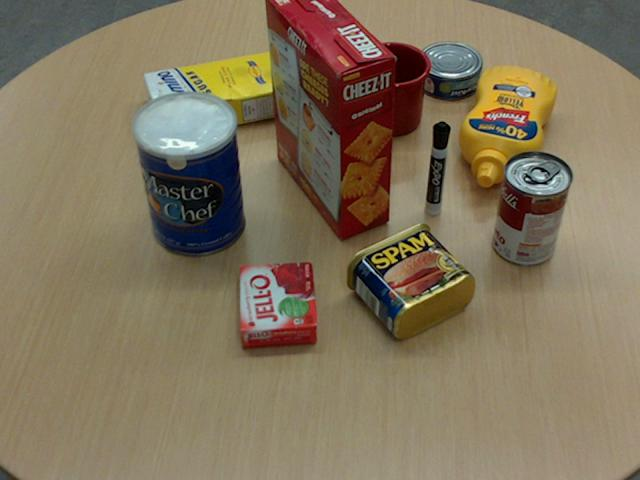cracker_box: (265, 0, 393, 238)
gelatin_box: (240, 261, 316, 347)
large_marker: (425, 122, 450, 214)
master_chef_can: (131, 91, 244, 256)
mug: (353, 41, 431, 135)
mustard_bottle: (458, 66, 555, 187)
potted_meat_can: (345, 221, 474, 337)
sugar_box: (142, 49, 297, 137)
tomato_soup_can: (493, 150, 571, 265)
tuna_fish_can: (415, 41, 481, 98)
